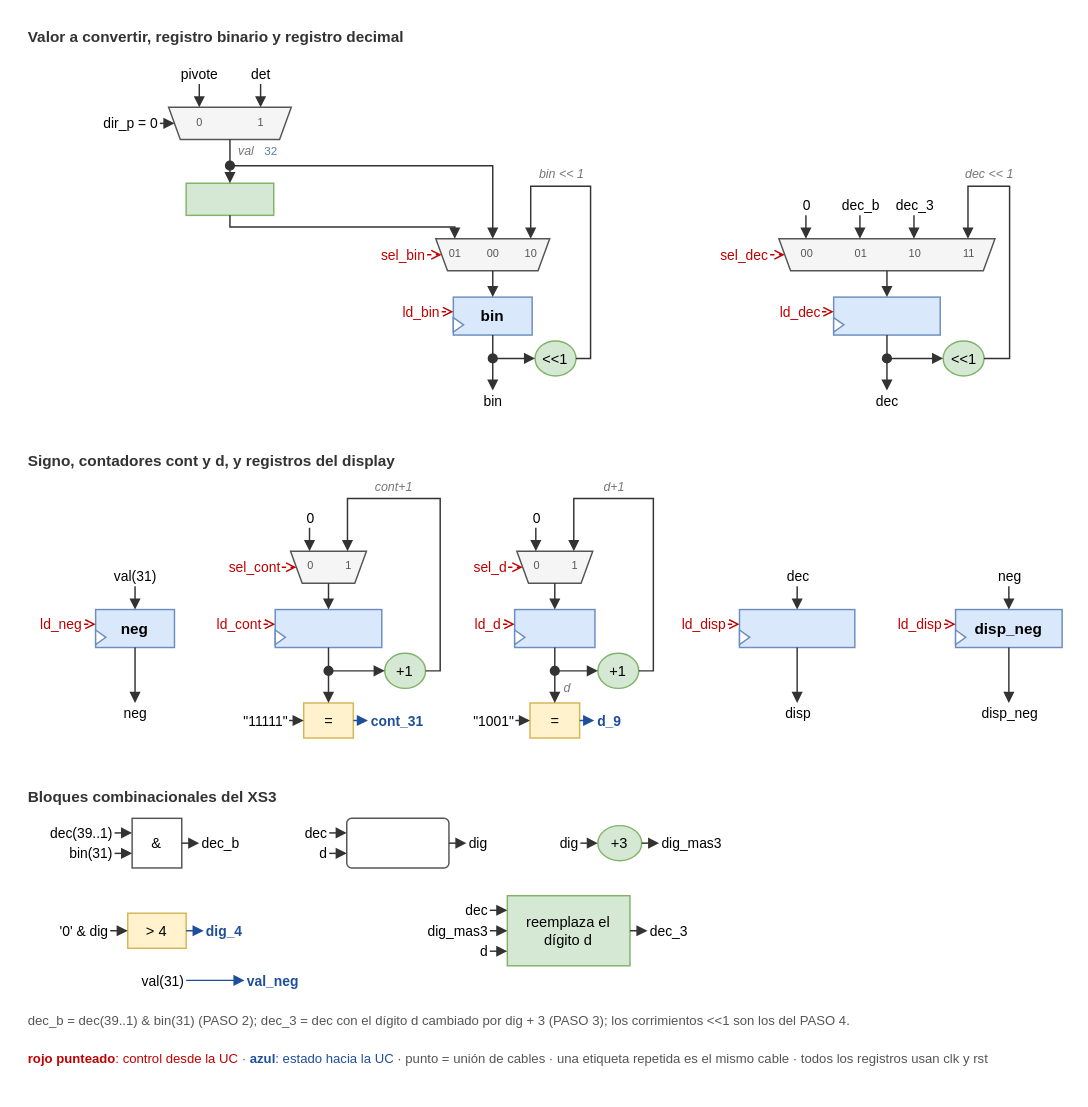
Image size: 1088x1107. Some labels were removed from this diagram. Each missing label, with the centre of its shape:
0 − val: the point at 229,198
cont (5): the point at 328,628
d (4): the point at 554,628
dec (40): the point at 886,315
disp (40): the point at 796,628
MUX 10 → 1 dígito d: the point at 397,842
